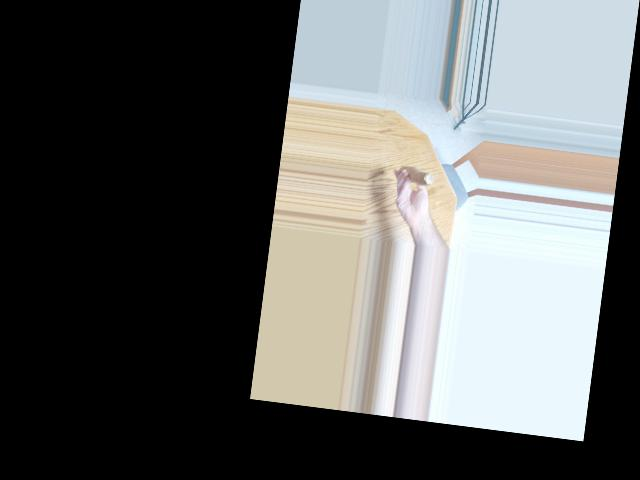sweet_potato: (394, 163, 440, 196)
